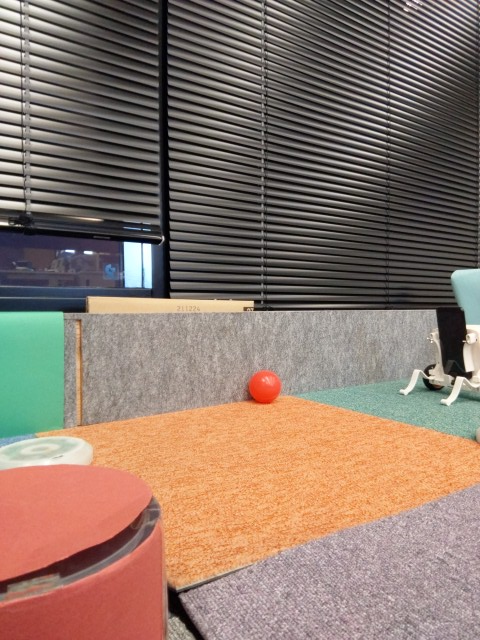bl: (395, 305, 480, 407)
o: (1, 429, 96, 479)
